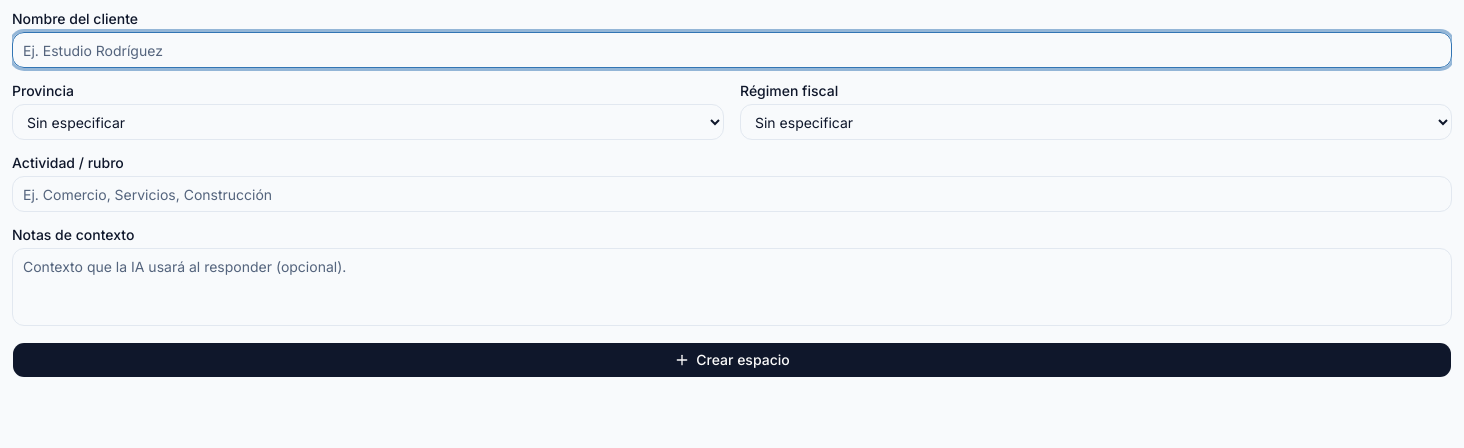
Test case: NewSpaceForm › muestra el error de la acción en un alert
Type "Juan Pérez" into the field labelled "Nombre del cliente" at (732, 50), box [12, 32, 1452, 68]
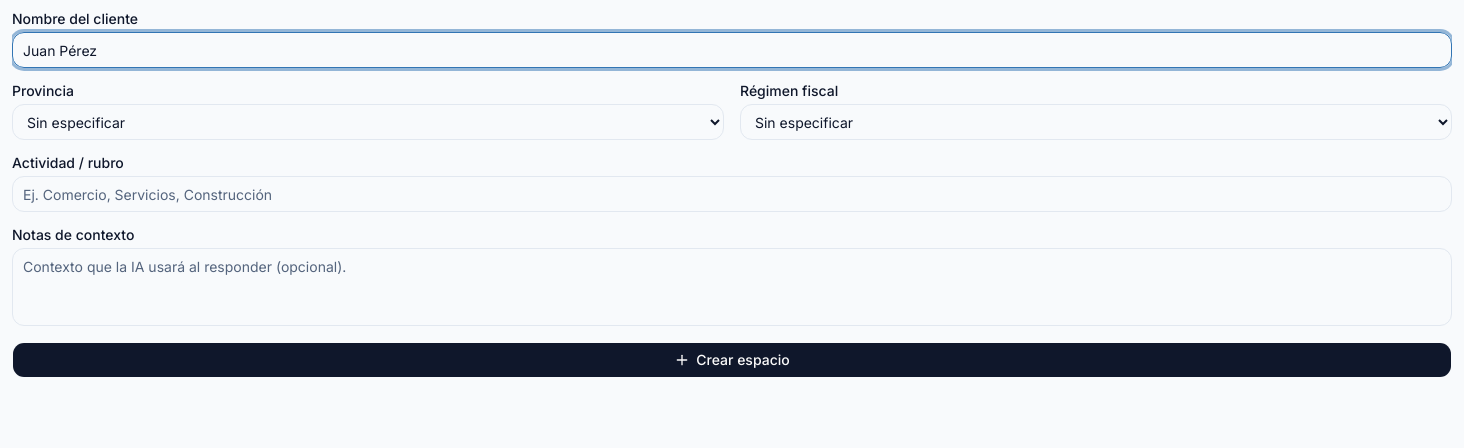
Click the button "Crear espacio" at (732, 360), box [12, 342, 1452, 378]
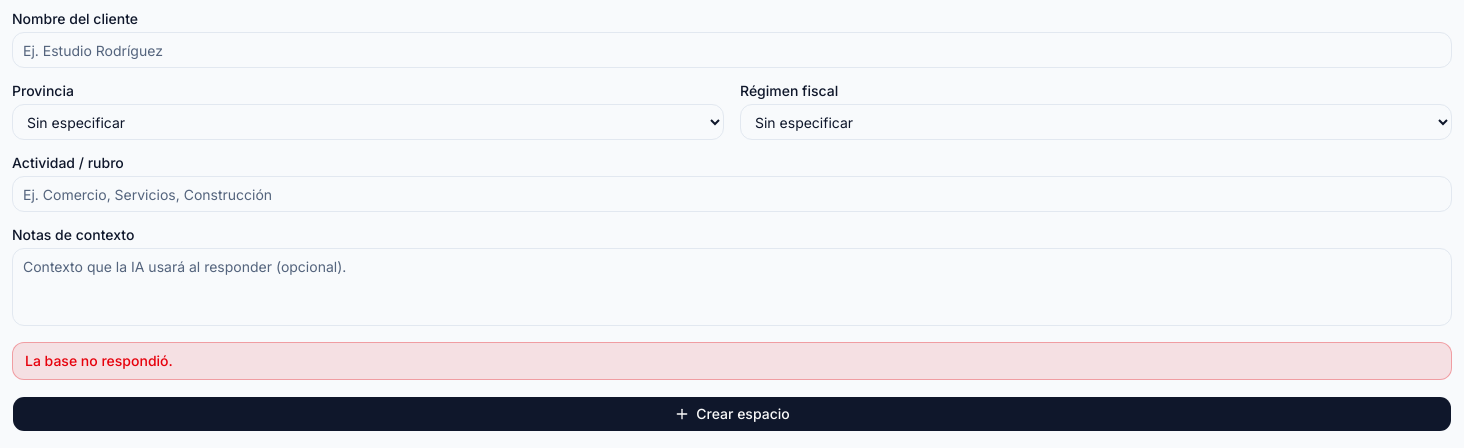
Now the message reads "La base no respondió.", box [25, 352, 173, 369]
